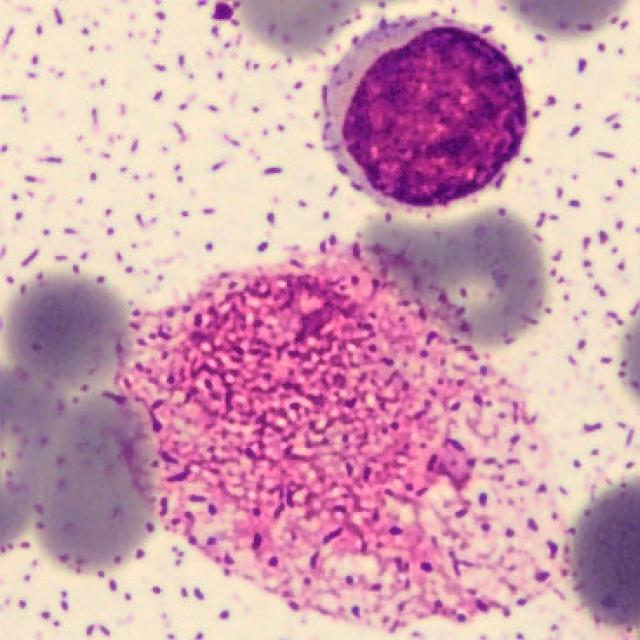Artefato: (117, 253, 572, 633)
